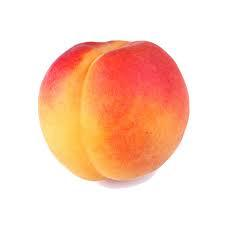non-mango: (37, 38, 190, 182)
